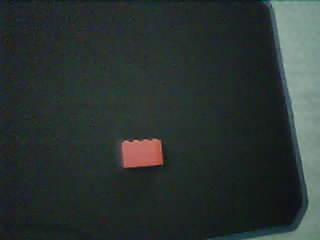lego: (118, 137, 164, 169)
